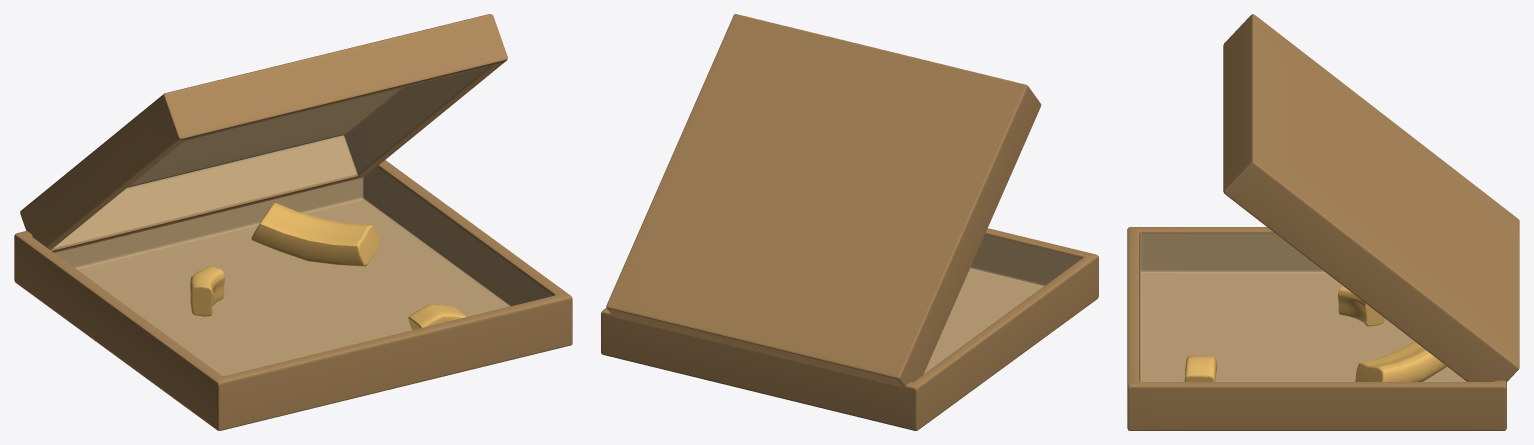
File: Pizza_Box.fbx
3 views of the same model, side by side, from view 1: azimuth 30°, elevation 25°; view 2: azimuth 150°, elevation 25°; view 3: azimuth 270°, elevation 25° (orthographic). The views are drawn at different scales.
Parts seen in each view (by area): view 1: pCube3, polySurface2, polySurface3, polySurface4; view 2: pCube3; view 3: pCube3, polySurface2, polySurface3, polySurface4.
Boxes of the visible parts, <box> form: pCube3: <box>14,14,572,430</box>; polySurface2: <box>251,203,379,266</box>; polySurface3: <box>190,266,224,316</box>; polySurface4: <box>408,304,465,330</box>; pCube3: <box>601,14,1098,430</box>; pCube3: <box>1127,14,1519,430</box>; polySurface2: <box>1355,341,1446,381</box>; polySurface3: <box>1338,286,1384,326</box>; polySurface4: <box>1184,355,1217,381</box>.
Size of the model in its own units: 6 by 4.61 by 6.2.
